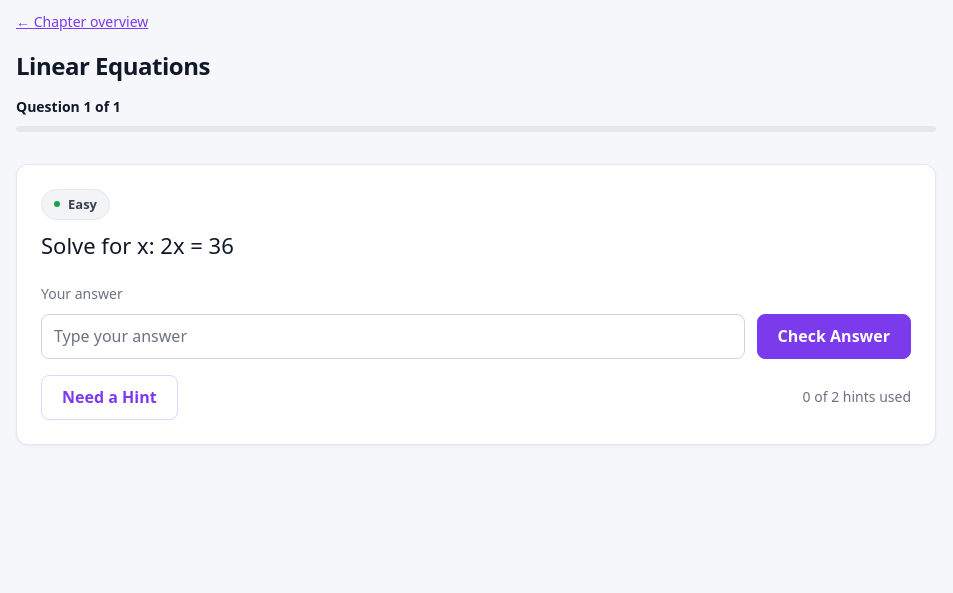
QuestionPage - saving note for a newly created identity (S4a) › is shown once after the first successful evaluation of a new learner, as a polite live region with no link
Expected: the text "Solve for x: 2x = 36" is shown, [41,230,234,260]
Type "18" into the field with placeholder "Type your answer" at [393, 336], box [41,314,745,359]
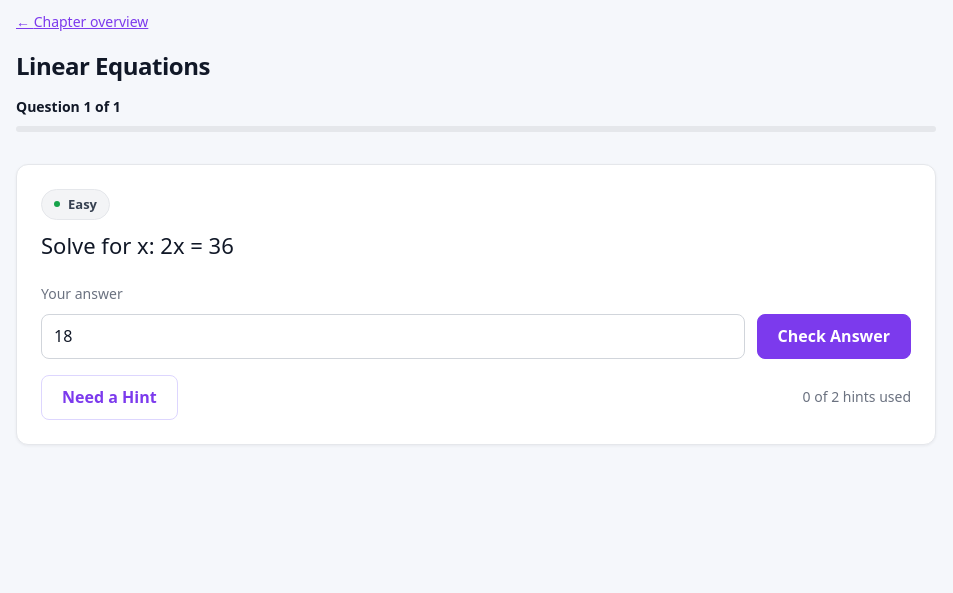
Click the button "Check Answer" at [834, 336], box [757,314,911,359]
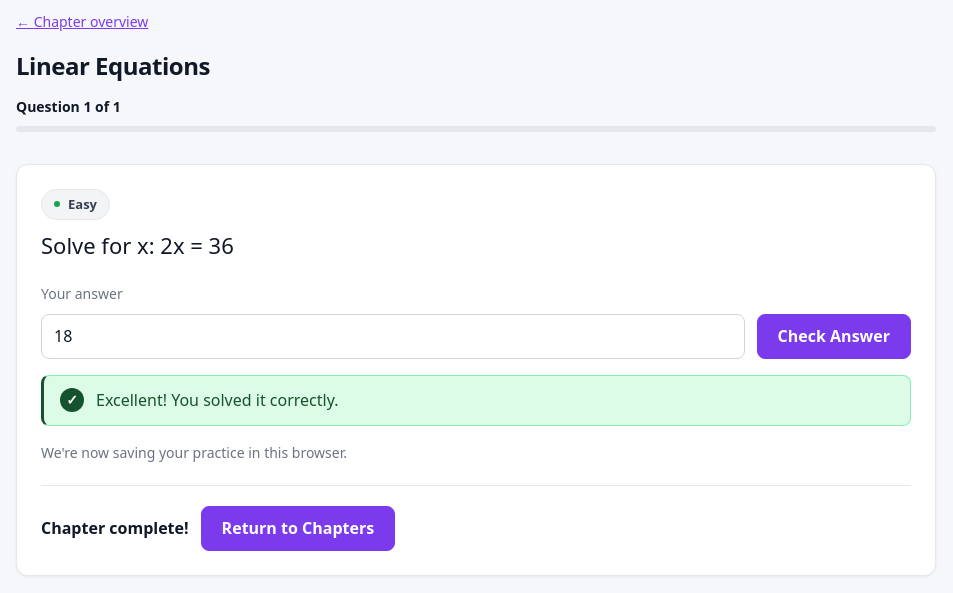
Now the text "We're now saving your practice in this browser." is shown once, box [41,444,347,462]
